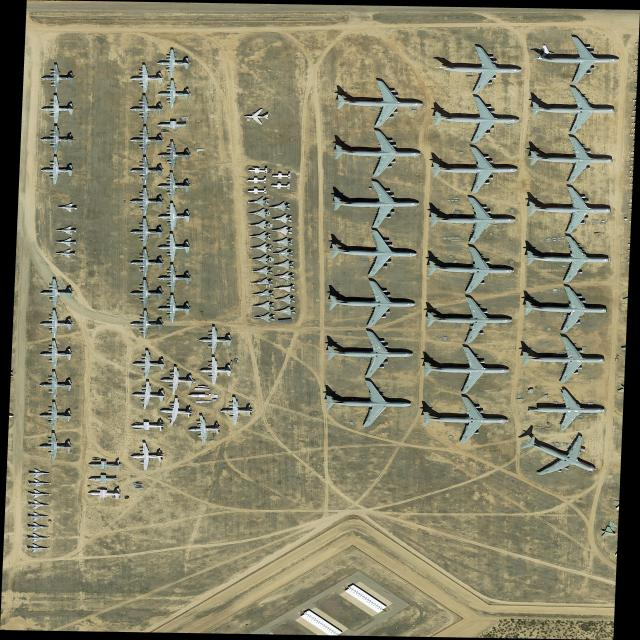plane: (500, 421, 618, 491), (330, 76, 426, 131), (430, 42, 527, 96), (322, 276, 419, 330), (325, 226, 421, 279), (321, 329, 417, 381), (417, 394, 512, 446), (520, 282, 610, 336), (429, 95, 522, 147), (321, 379, 415, 430), (425, 294, 516, 346), (421, 345, 513, 396), (522, 233, 612, 285), (525, 134, 616, 185), (524, 184, 613, 236), (529, 35, 621, 85), (427, 244, 516, 294), (518, 335, 607, 385), (332, 179, 421, 229), (429, 195, 518, 244), (527, 86, 616, 135), (430, 146, 520, 194), (332, 129, 422, 177), (156, 396, 196, 428), (128, 381, 168, 411), (185, 414, 222, 444), (39, 155, 75, 185), (198, 326, 235, 355), (40, 95, 77, 124), (39, 125, 76, 154), (40, 64, 77, 93), (157, 140, 192, 170), (129, 125, 164, 155), (159, 365, 194, 395), (39, 278, 74, 308), (39, 309, 74, 339), (39, 370, 74, 400), (129, 248, 165, 277), (129, 187, 165, 216), (129, 156, 165, 185), (156, 79, 192, 108), (129, 442, 165, 471), (38, 340, 74, 369), (129, 218, 164, 247), (129, 95, 164, 124), (129, 64, 164, 93), (157, 49, 192, 78), (157, 172, 192, 201), (157, 264, 192, 293), (157, 294, 192, 323), (198, 357, 234, 385), (129, 310, 165, 338), (130, 279, 164, 308), (157, 202, 191, 231), (157, 233, 191, 262), (131, 350, 165, 379), (39, 432, 73, 461), (219, 397, 254, 425), (39, 402, 73, 430), (243, 109, 272, 125), (88, 459, 123, 472), (88, 488, 124, 500), (55, 202, 79, 213), (54, 237, 78, 248), (251, 254, 274, 265), (272, 260, 295, 271), (251, 301, 275, 311), (273, 306, 297, 316), (88, 475, 117, 483), (247, 197, 270, 207), (54, 249, 77, 259), (27, 500, 50, 510), (26, 533, 49, 543), (249, 220, 272, 230), (270, 226, 293, 236), (273, 271, 296, 281), (253, 313, 276, 323), (27, 512, 49, 522), (271, 214, 293, 224), (250, 232, 272, 242), (251, 243, 273, 253), (272, 249, 294, 259), (252, 266, 274, 276), (27, 490, 51, 499), (247, 209, 271, 218), (250, 278, 274, 287), (55, 226, 78, 235), (28, 469, 51, 478), (26, 544, 49, 553), (267, 202, 290, 211), (27, 522, 49, 531), (271, 238, 293, 247), (274, 284, 296, 293), (251, 290, 275, 298), (275, 295, 296, 304), (28, 479, 51, 487), (246, 176, 268, 184), (247, 167, 269, 174), (270, 182, 292, 189), (247, 188, 268, 195), (271, 172, 292, 179)
